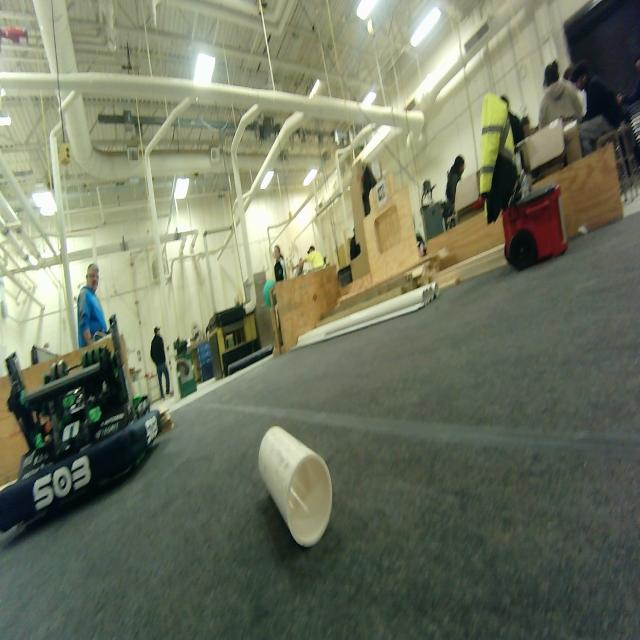coral: (248, 418, 341, 552)
